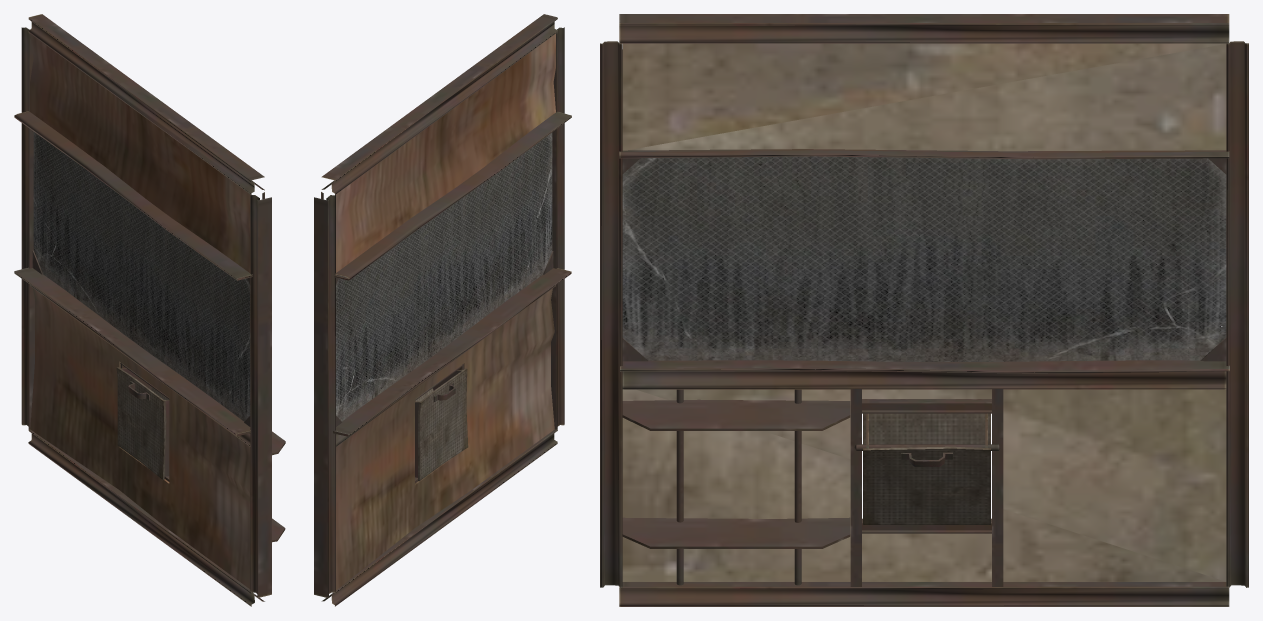
File: wall.frame.shopfront.metal.static.glb
3 renders of one model, left to right at view 1: azimuth 30°, elevation 25°; view 2: azimuth 150°, elevation 25°; view 3: azimuth 270°, elevation 25°, orthographic. The views are drawn at different scales.
Visible parts, largest first — view 1: wall.frame.shopfront.metal_LOD0; view 2: wall.frame.shopfront.metal_LOD0; view 3: wall.frame.shopfront.metal_LOD0.
Part boxes in pixels (bbox=[...]): wall.frame.shopfront.metal_LOD0: bbox=[14, 14, 285, 606]; wall.frame.shopfront.metal_LOD0: bbox=[314, 14, 571, 606]; wall.frame.shopfront.metal_LOD0: bbox=[600, 14, 1248, 606].
Size of the model in its own units: 0.4332 by 2.85 by 2.87.
2 materials, 2 textured.
